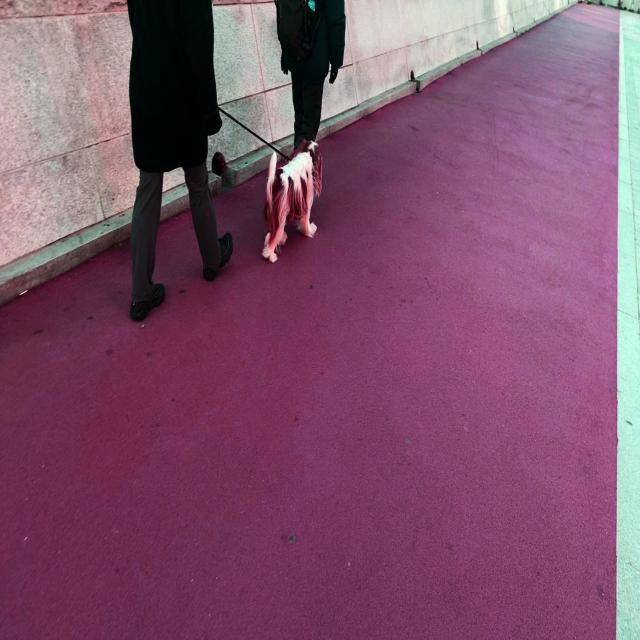Leashed_Dog: (198, 70, 323, 266)
